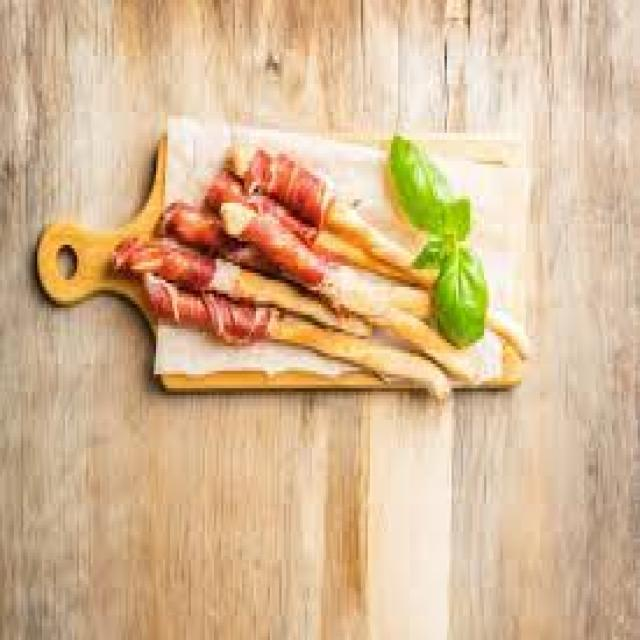Grissini: (116, 147, 476, 403)
